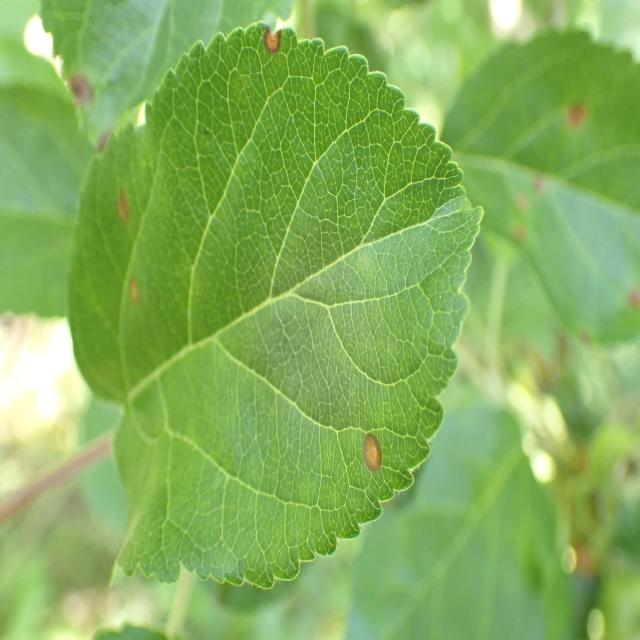frog-eye-leaf-spot: (116, 23, 486, 592)
